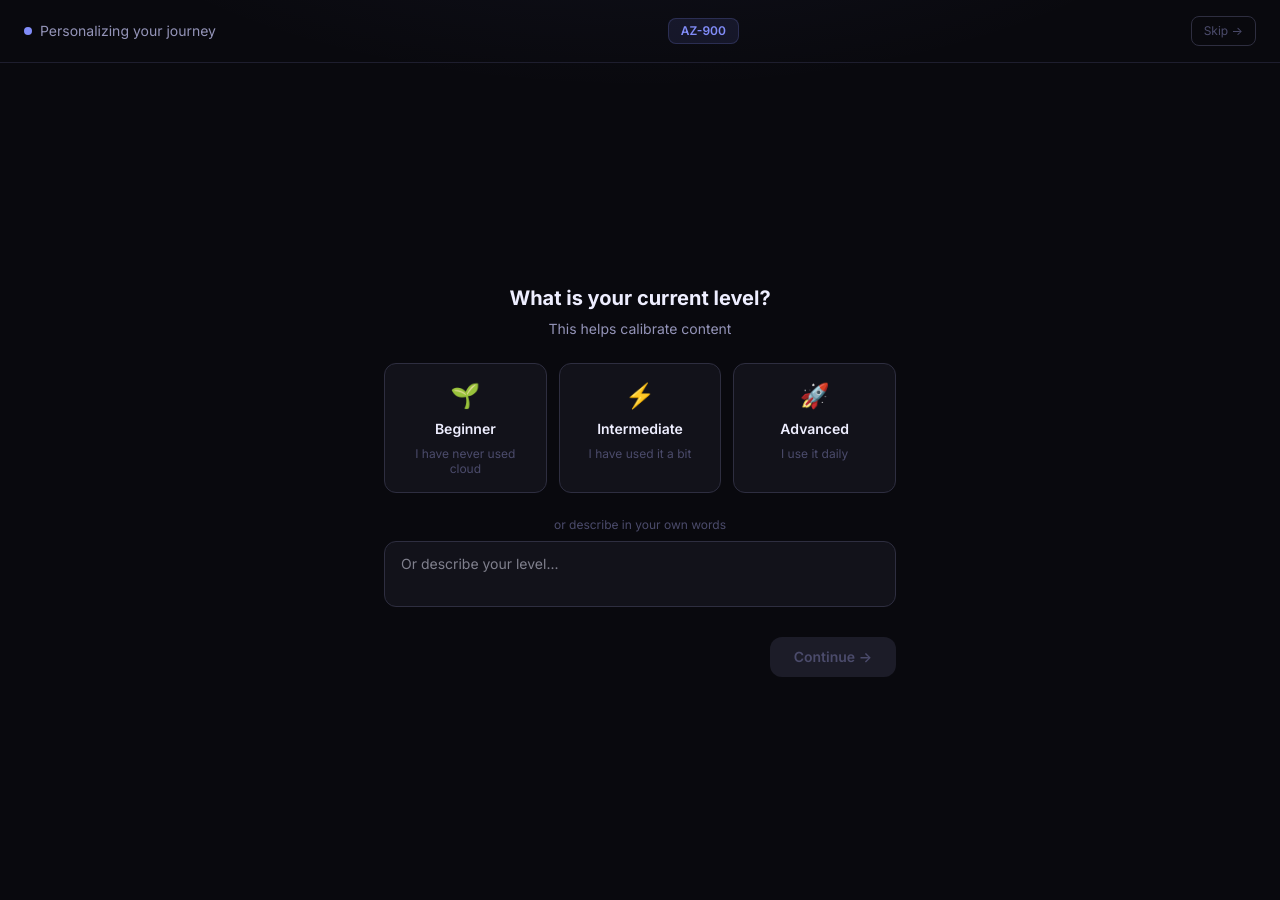
OnboardingWizard — card selection › clicking a card enables Continue button
Click the text "Beginner": {"x": 465, "y": 429} [435,420,496,438]
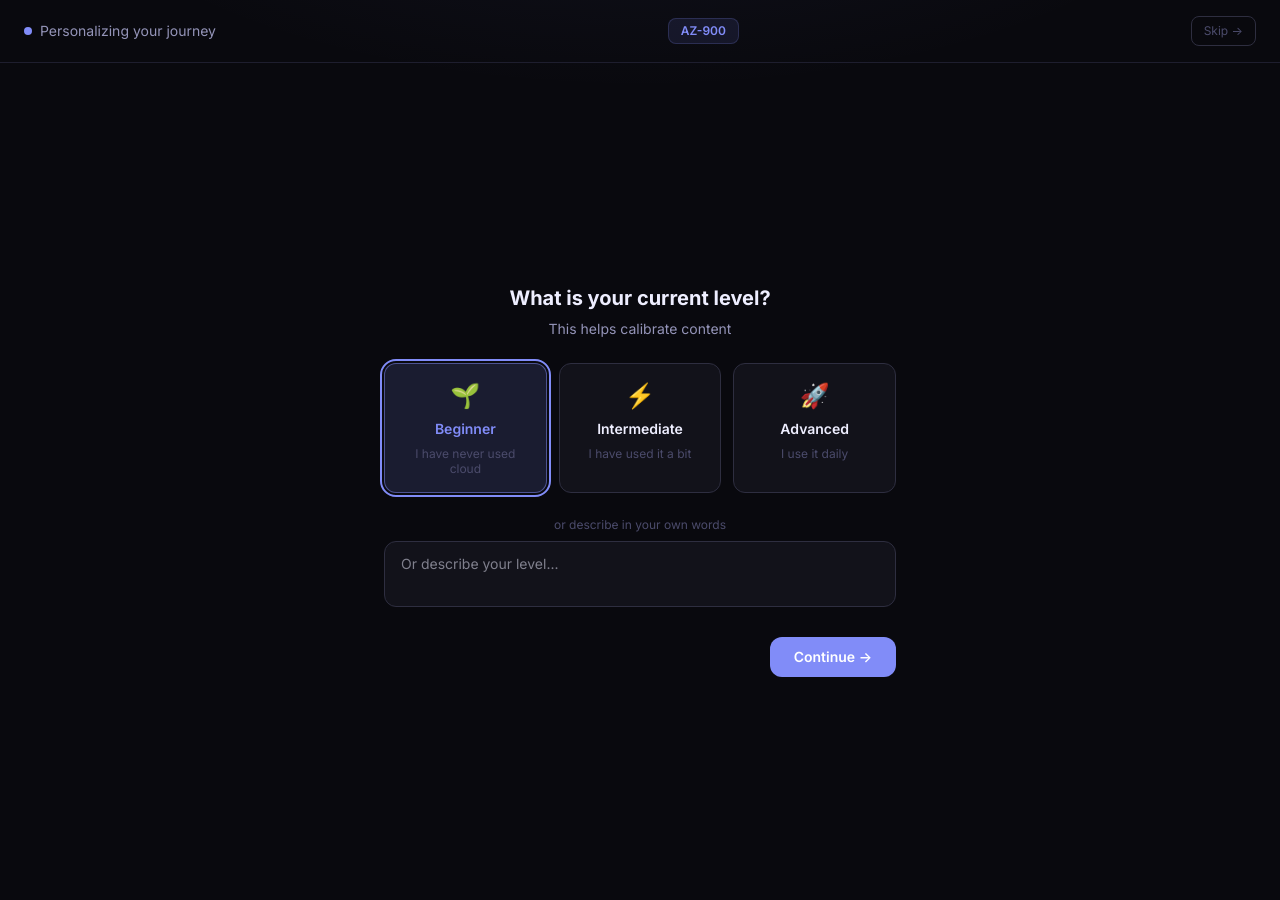
Check: the button "Continue →" is enabled, box [770,637,896,677]
